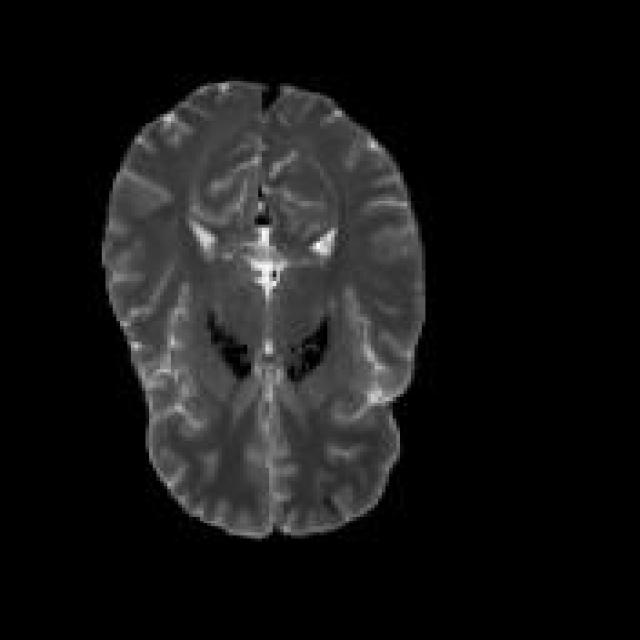CONTROL: (98, 77, 426, 538)
